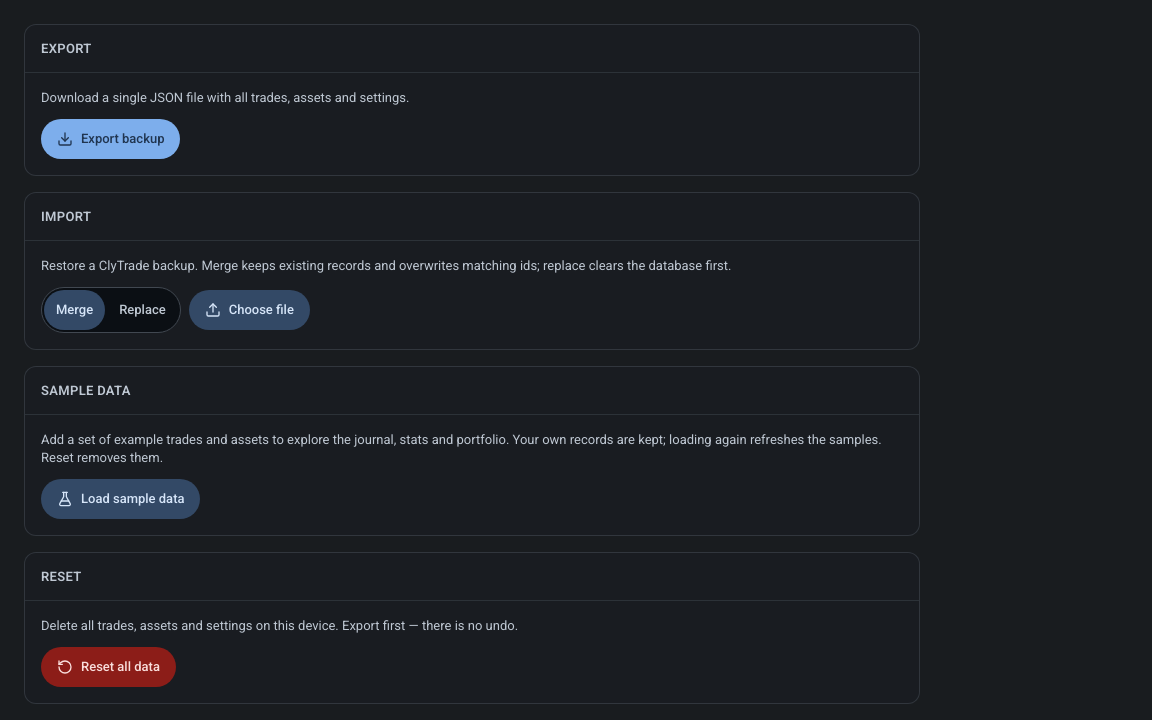
DataControlsPage › clears all data and shows a confirmation
The width and height of the screenshot is (1152, 720).
Click the button "Reset all data" at (108, 667), box [41, 647, 176, 687]
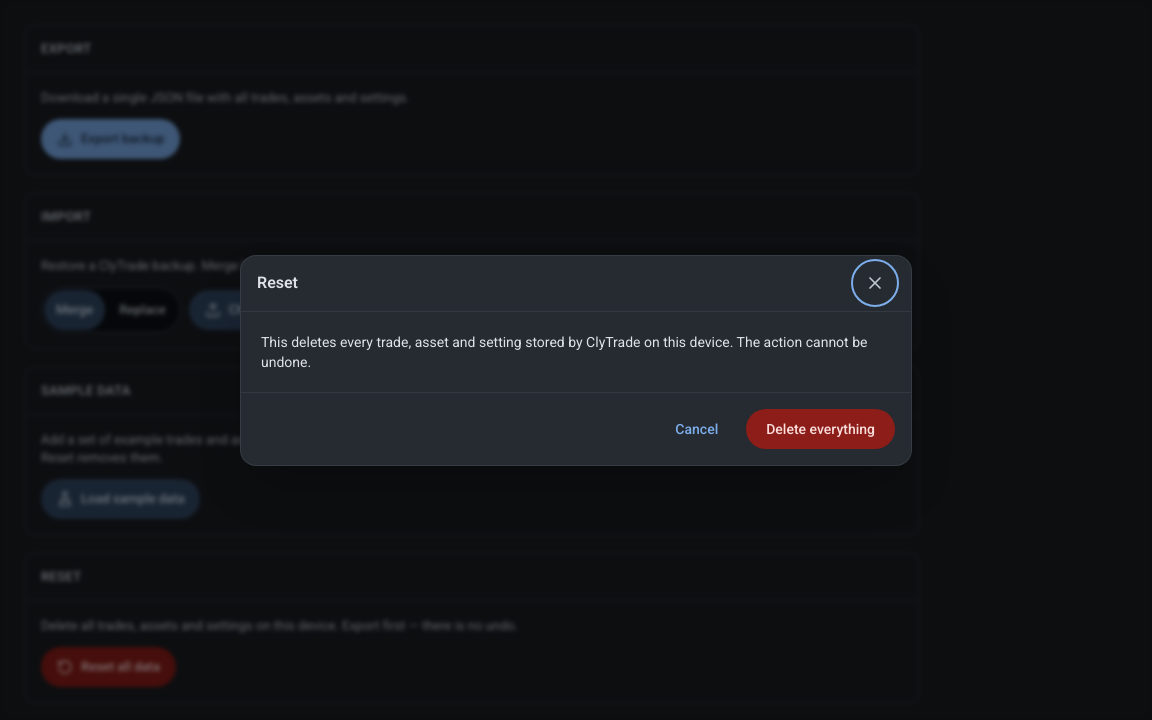
Click the button "Delete everything" at (821, 428), box [746, 408, 895, 448]
(page scrolled)
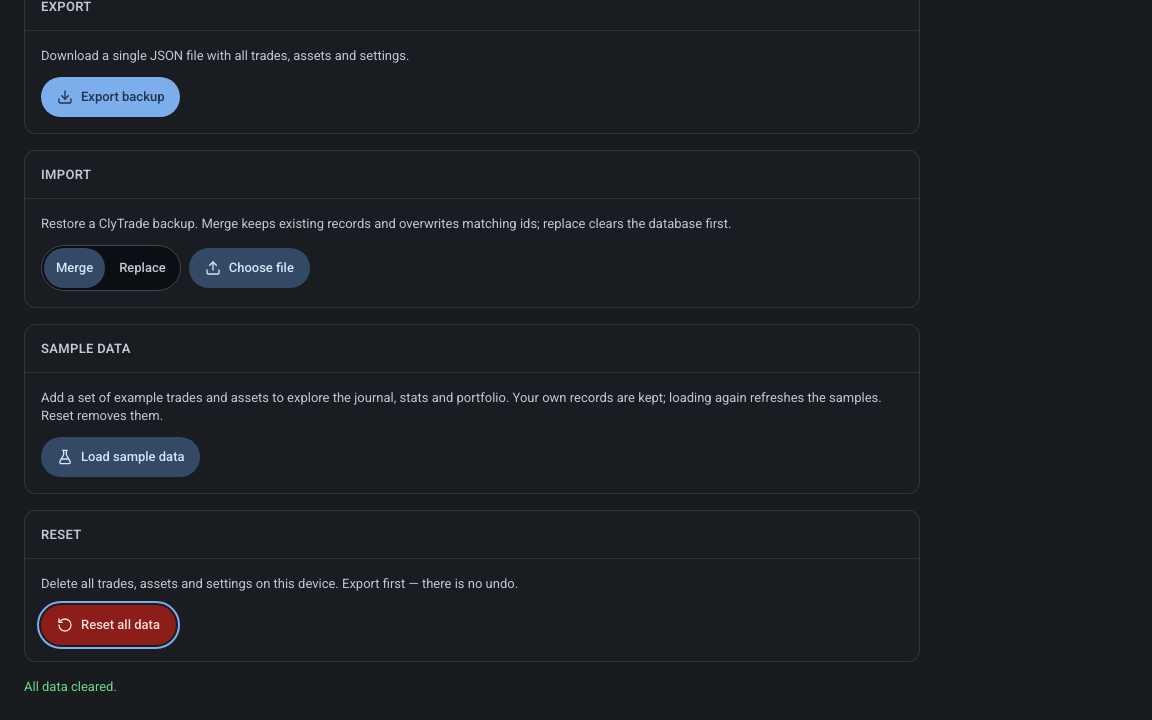
Check: the text "All data cleared." is shown, box [24, 679, 117, 694]
